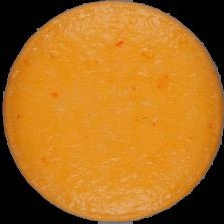55700-022: (0, 0, 224, 224)
